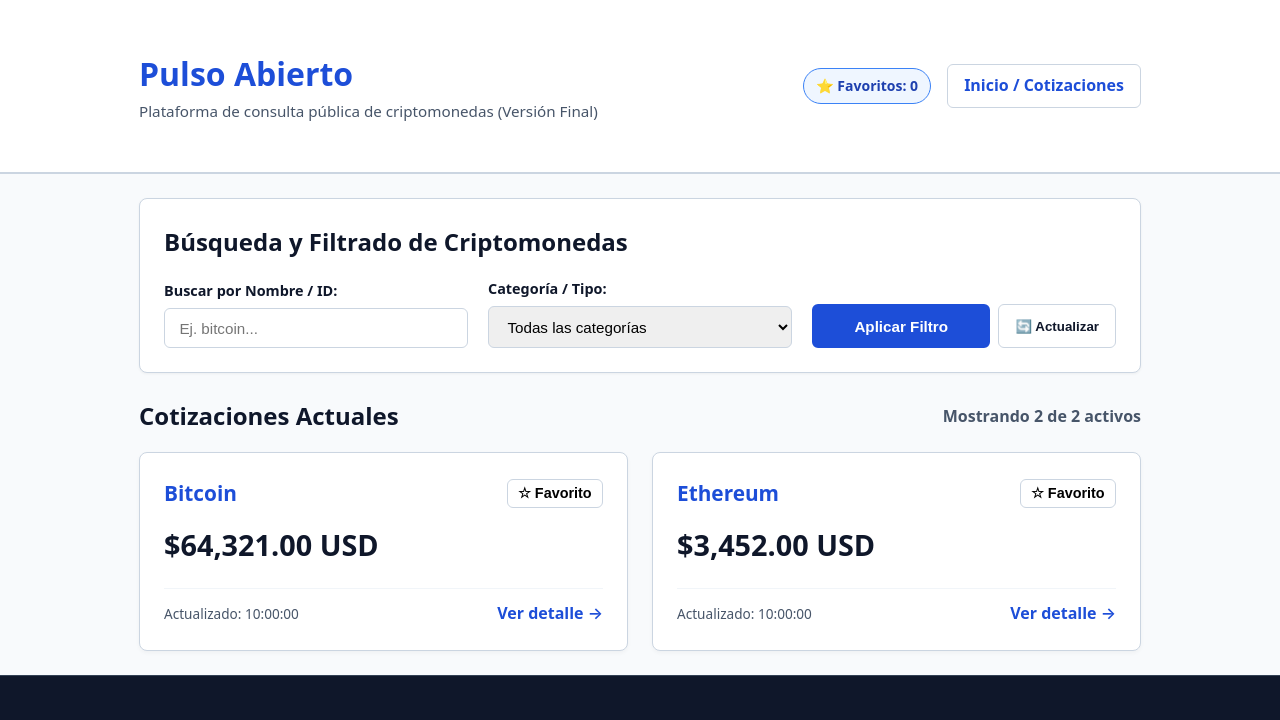
Scenario: Integración de comportamientos observables - Pulso Abierto › permite marcar y desmarcar una criptomoneda reflejando el cambio en la interfaz
Expected: the text "⭐ Favoritos: 0" is shown, top-left (803, 68), bottom-right (931, 104)
Click the button with aria-label "Marcar Bitcoin como favorito" at [555, 493], box top-left (506, 478), bottom-right (603, 508)
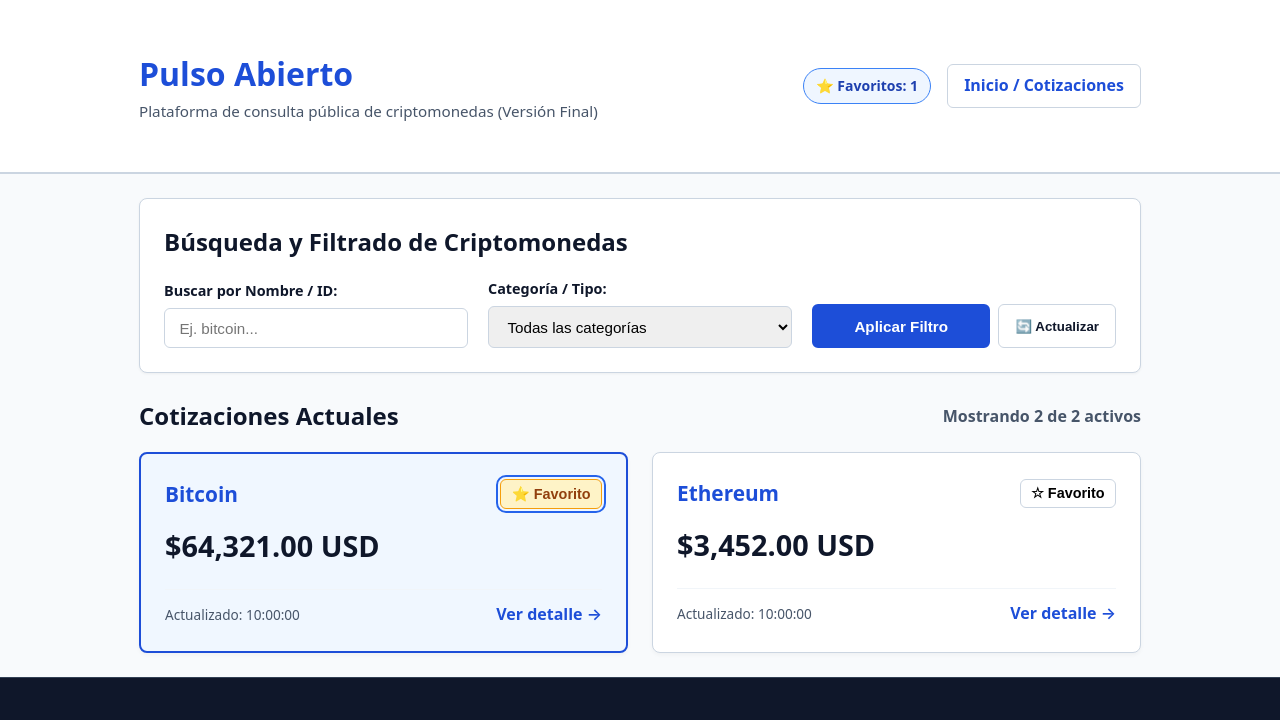
Now the text "⭐ Favoritos: 1" is shown, box top-left (803, 68), bottom-right (931, 104)
Click the button with aria-label "Quitar Bitcoin de favoritos" at [551, 494], box top-left (500, 479), bottom-right (602, 509)
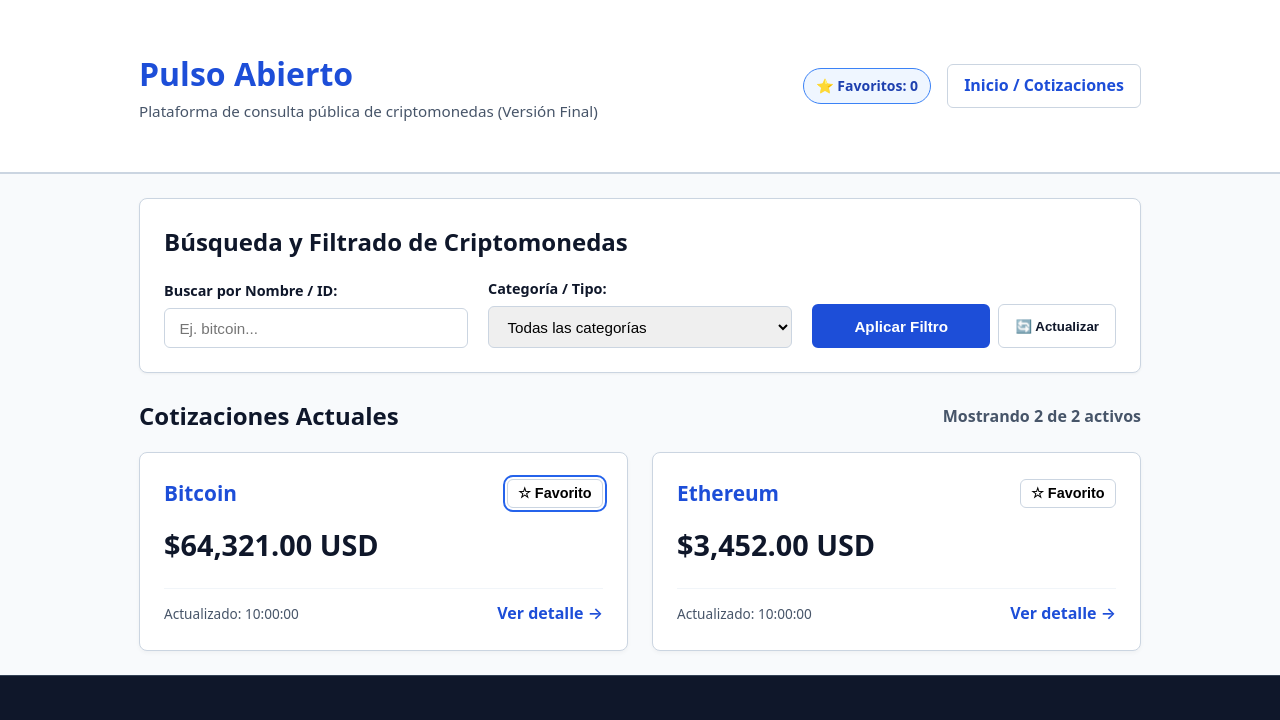
Now the text "⭐ Favoritos: 0" is shown, box top-left (803, 68), bottom-right (931, 104)
